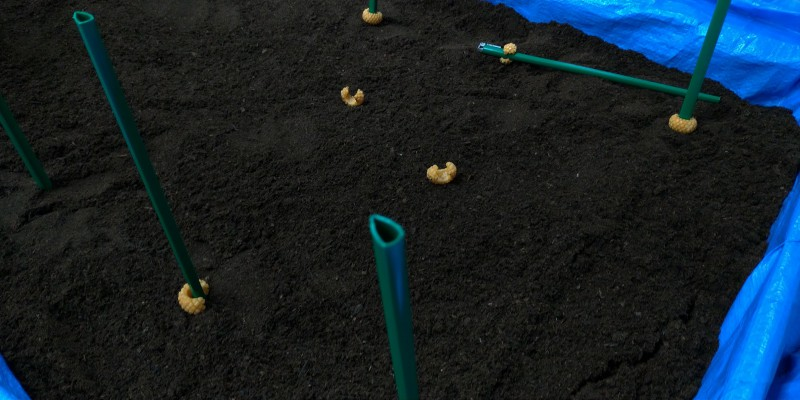eggs: (174, 276, 213, 317), (422, 155, 458, 188), (666, 103, 702, 135), (334, 82, 368, 109), (494, 39, 518, 64), (360, 7, 386, 27)
